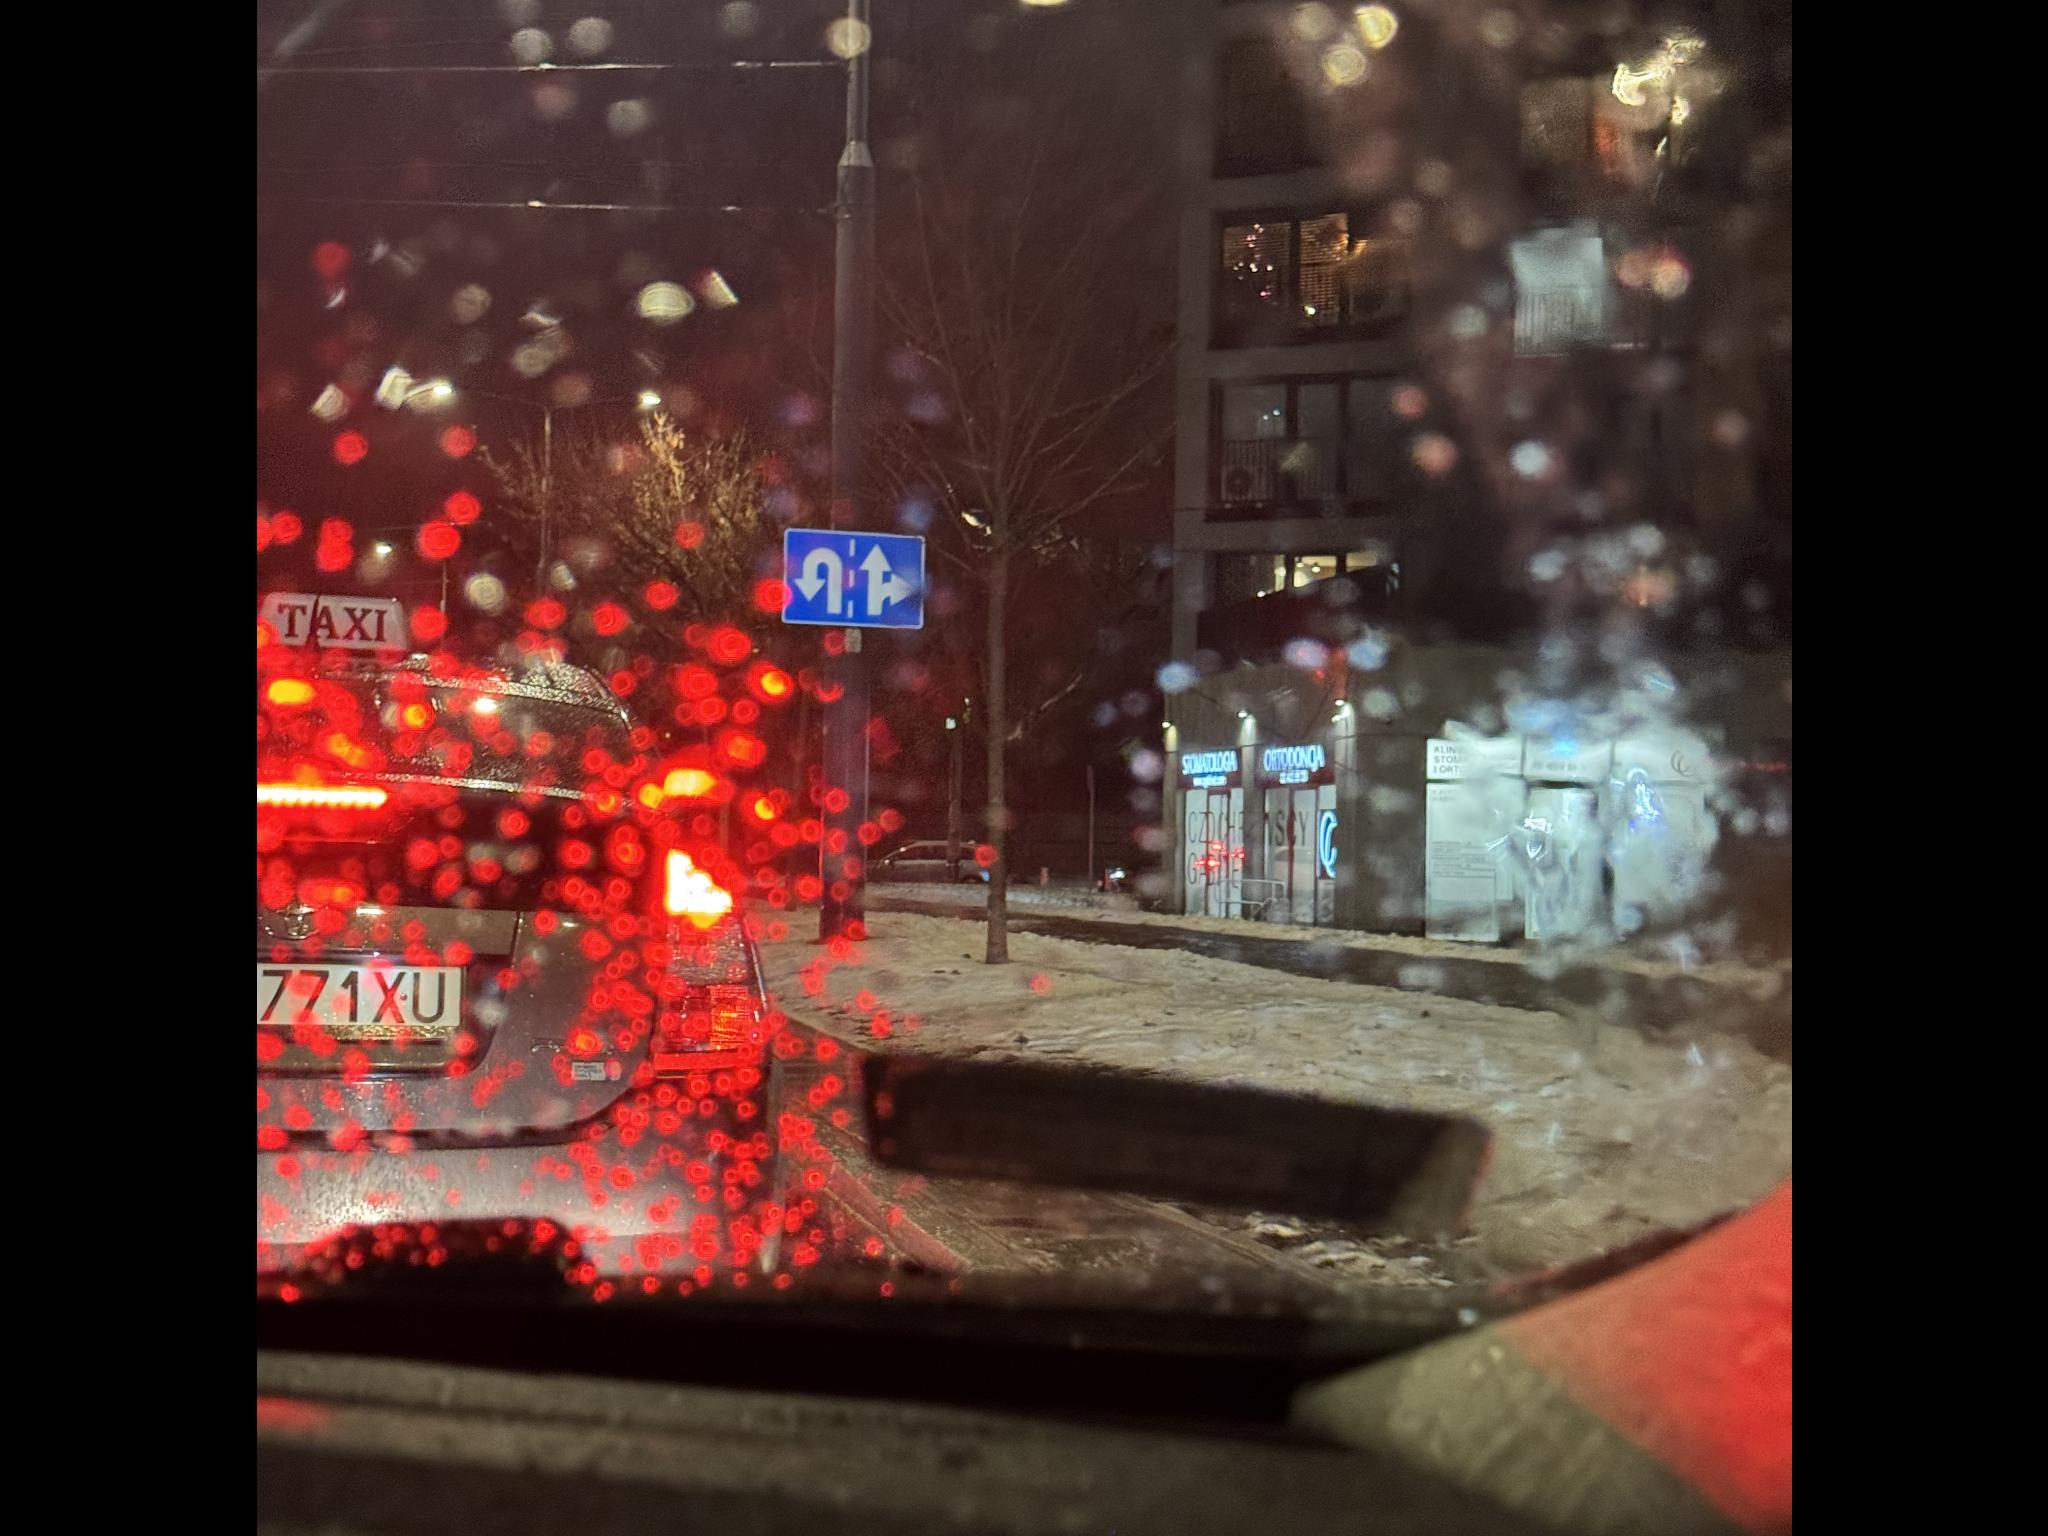other: (905, 271, 1009, 416)
